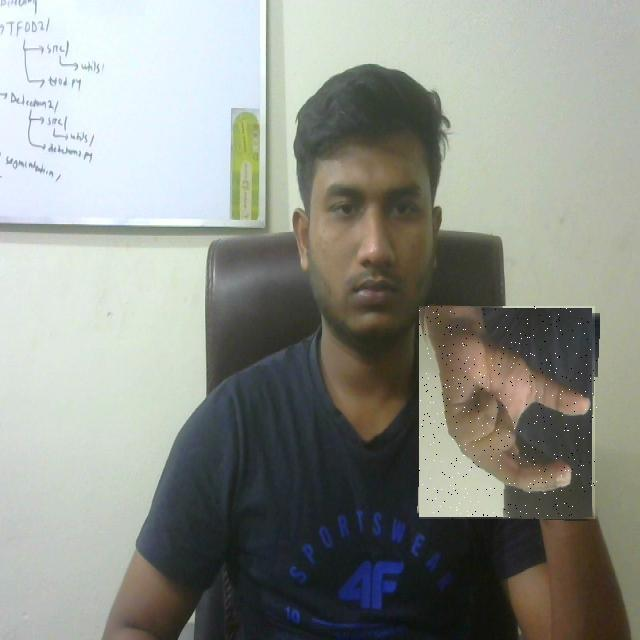No: (420, 306, 598, 519)
